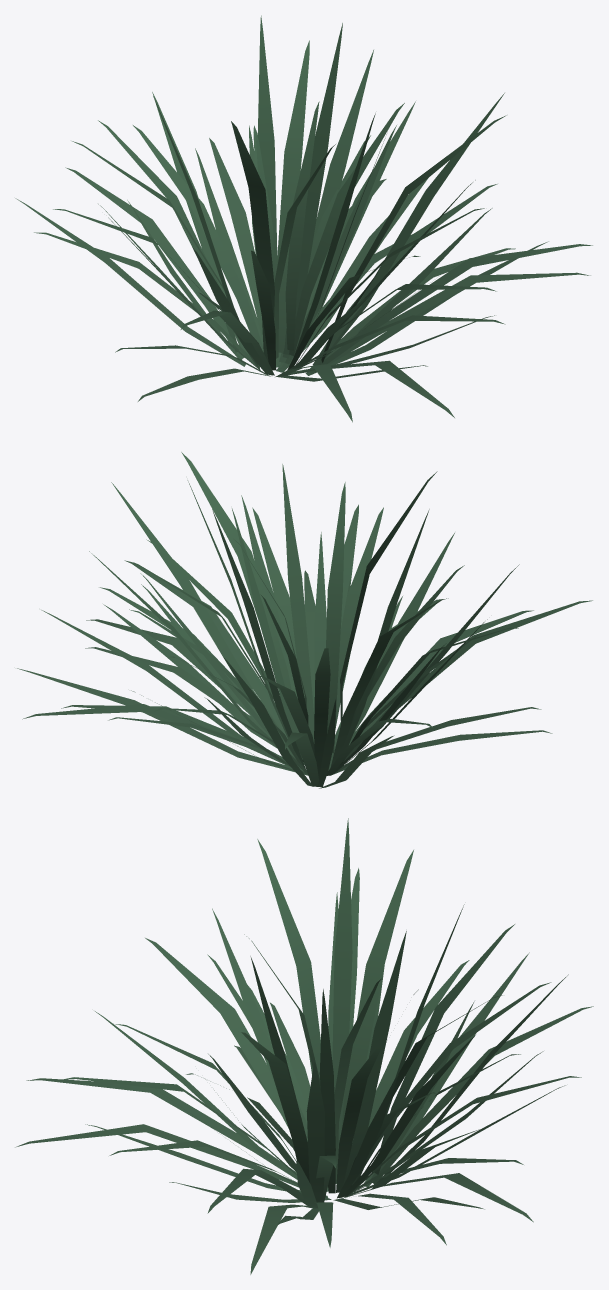
Rendered from trees-grasses-spiky-grass-tuft_v3.glb.
3 views of the same model, one above another, from view 1: azimuth 30°, elevation 25°; view 2: azimuth 150°, elevation 25°; view 3: azimuth 270°, elevation 25° (orthographic). The views are drawn at different scales.
Parts seen in each view (by area): view 1: Spiky Grass Tuft_v3; view 2: Spiky Grass Tuft_v3; view 3: Spiky Grass Tuft_v3.
Boxes of the visible parts, x1,y1,x2,y2 form: Spiky Grass Tuft_v3: (15,15,592,422); Spiky Grass Tuft_v3: (17,452,592,788); Spiky Grass Tuft_v3: (15,818,593,1274).
Bounding box in the file's own units: 0.4 × 0.2367 × 0.3904.
